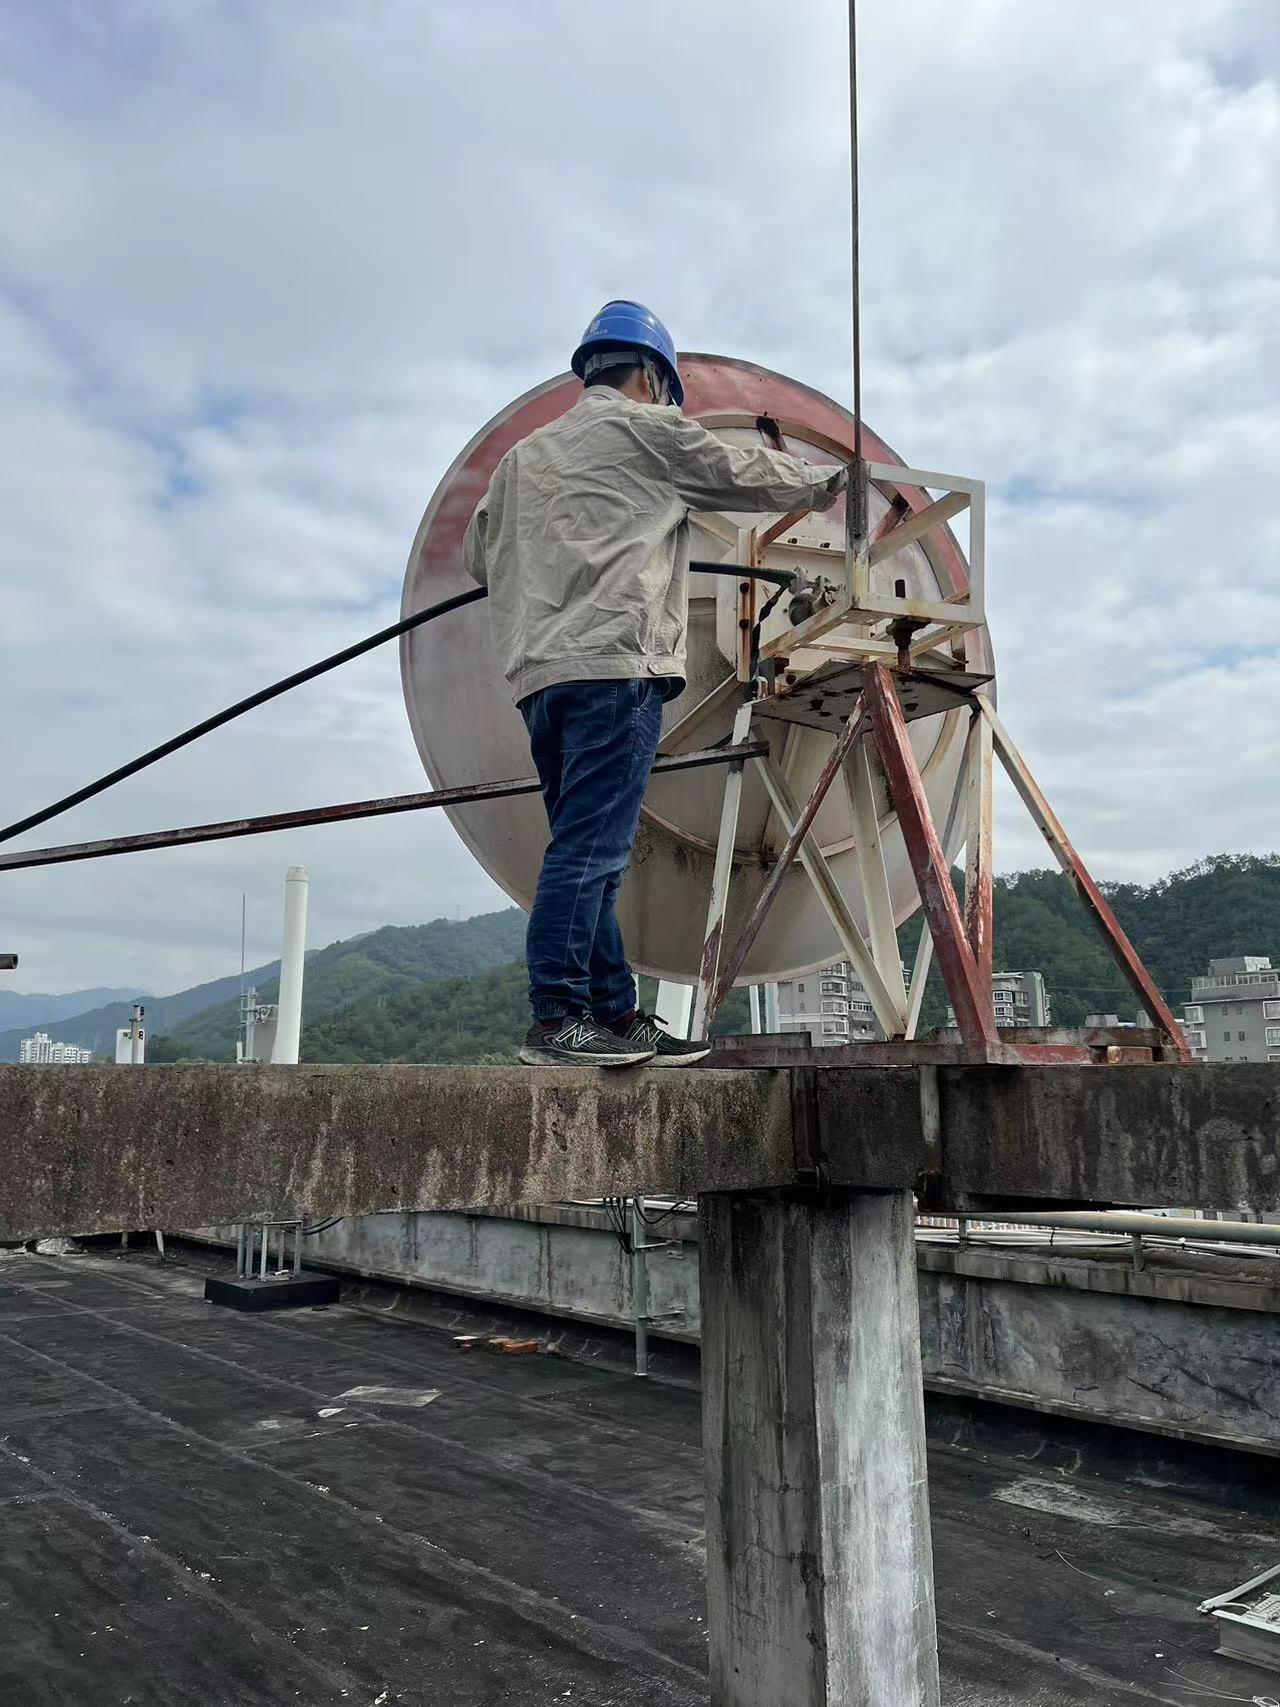hat: (567, 292, 687, 415)
